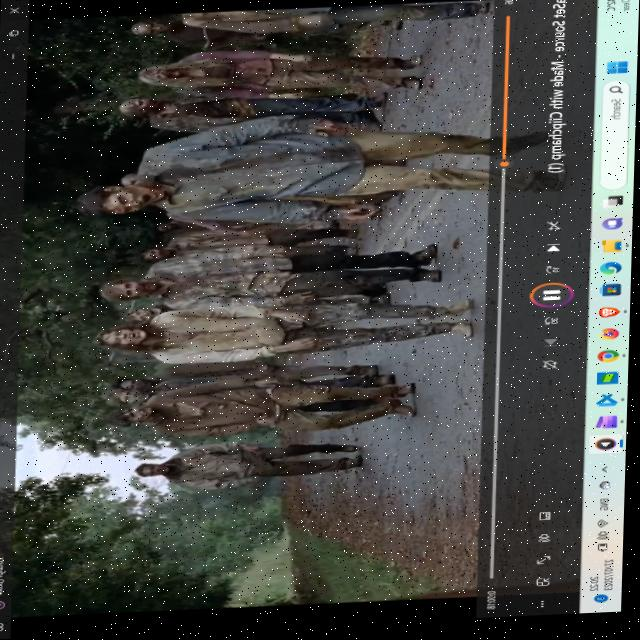Zombie: (85, 184, 165, 215), (103, 328, 149, 349), (140, 68, 185, 84), (123, 97, 165, 114), (114, 407, 156, 423), (118, 284, 159, 299), (129, 23, 176, 36), (112, 390, 150, 405), (138, 464, 171, 479), (119, 380, 152, 391), (144, 250, 174, 262)
